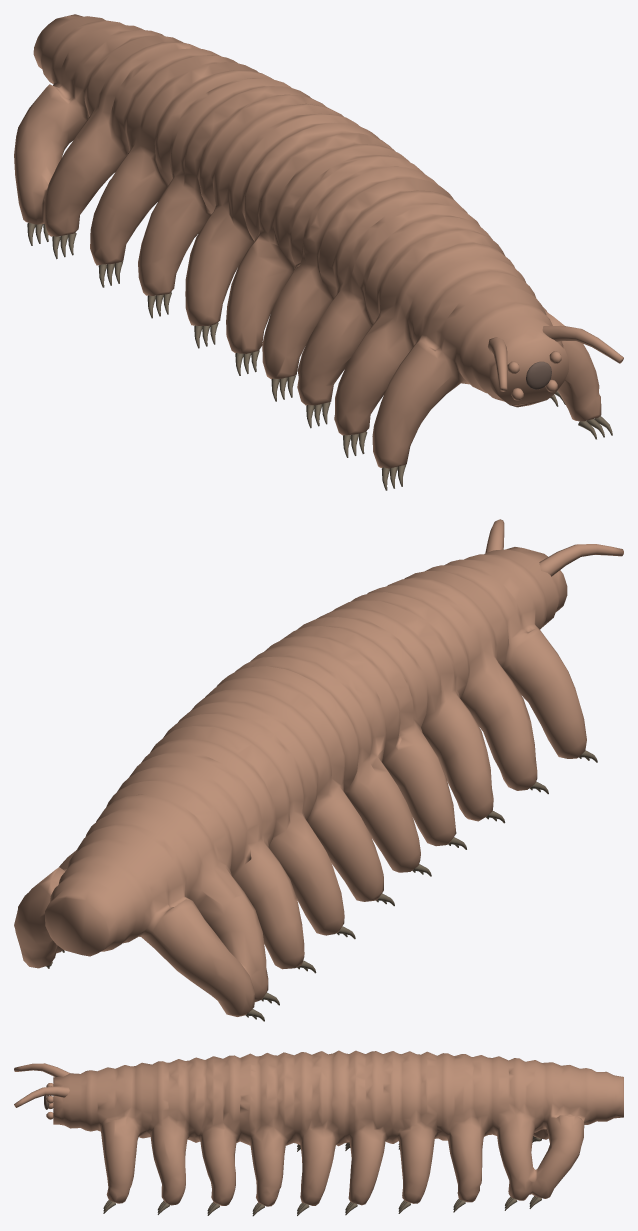
Rendered from aysheaia.glb.
3 renders of one model, top to bottom at view 1: azimuth 30°, elevation 25°; view 2: azimuth 150°, elevation 25°; view 3: azimuth 270°, elevation 25°, orthographic. The views are drawn at different scales.
Parts seen in each view (by area): view 1: soft-corrugated-unsegmented-trunk-with-stout-integrated-lobo, simplified-terminal-claw-clusters, anterior-soft-appendages-mouth-and-papillae; view 2: soft-corrugated-unsegmented-trunk-with-stout-integrated-lobo, anterior-soft-appendages-mouth-and-papillae, simplified-terminal-claw-clusters; view 3: soft-corrugated-unsegmented-trunk-with-stout-integrated-lobo, anterior-soft-appendages-mouth-and-papillae, simplified-terminal-claw-clusters.
Part boxes in pixels (bbox=[...]): soft-corrugated-unsegmented-trunk-with-stout-integrated-lobo: bbox=[14, 14, 601, 468]; simplified-terminal-claw-clusters: bbox=[27, 222, 612, 490]; anterior-soft-appendages-mouth-and-papillae: bbox=[488, 325, 623, 400]; soft-corrugated-unsegmented-trunk-with-stout-integrated-lobo: bbox=[14, 547, 586, 1016]; anterior-soft-appendages-mouth-and-papillae: bbox=[485, 519, 623, 576]; simplified-terminal-claw-clusters: bbox=[46, 750, 597, 1021]; soft-corrugated-unsegmented-trunk-with-stout-integrated-lobo: bbox=[53, 1050, 623, 1206]; anterior-soft-appendages-mouth-and-papillae: bbox=[14, 1063, 69, 1119]; simplified-terminal-claw-clusters: bbox=[103, 1136, 541, 1216].
Bounding box in the file's own units: 0.0192 × 0.0145 × 0.0641.
